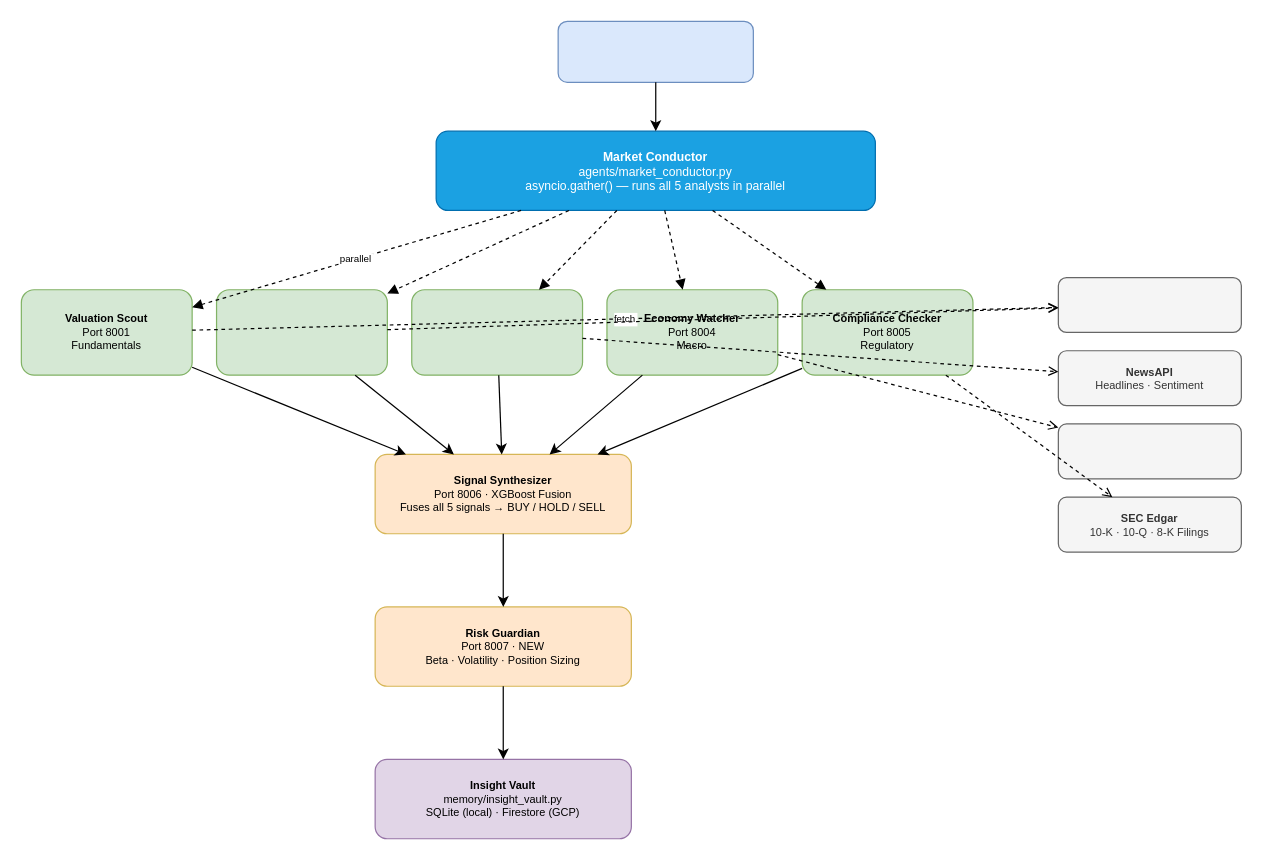
This 1263x860 diagram has some shape labels left out. Each missing label, with the centre of its shape:
FRED API GDP · Inflation · Fed Rate: (x=1149, y=451)
Momentum Tracker Port 8002 Technicals: (x=301, y=332)
Polygon.io Price · Fundamentals · News: (x=1149, y=304)
Pulse Monitor Port 8003 Sentiment: (x=497, y=332)
User Request ticker + horizon: (x=655, y=51)
